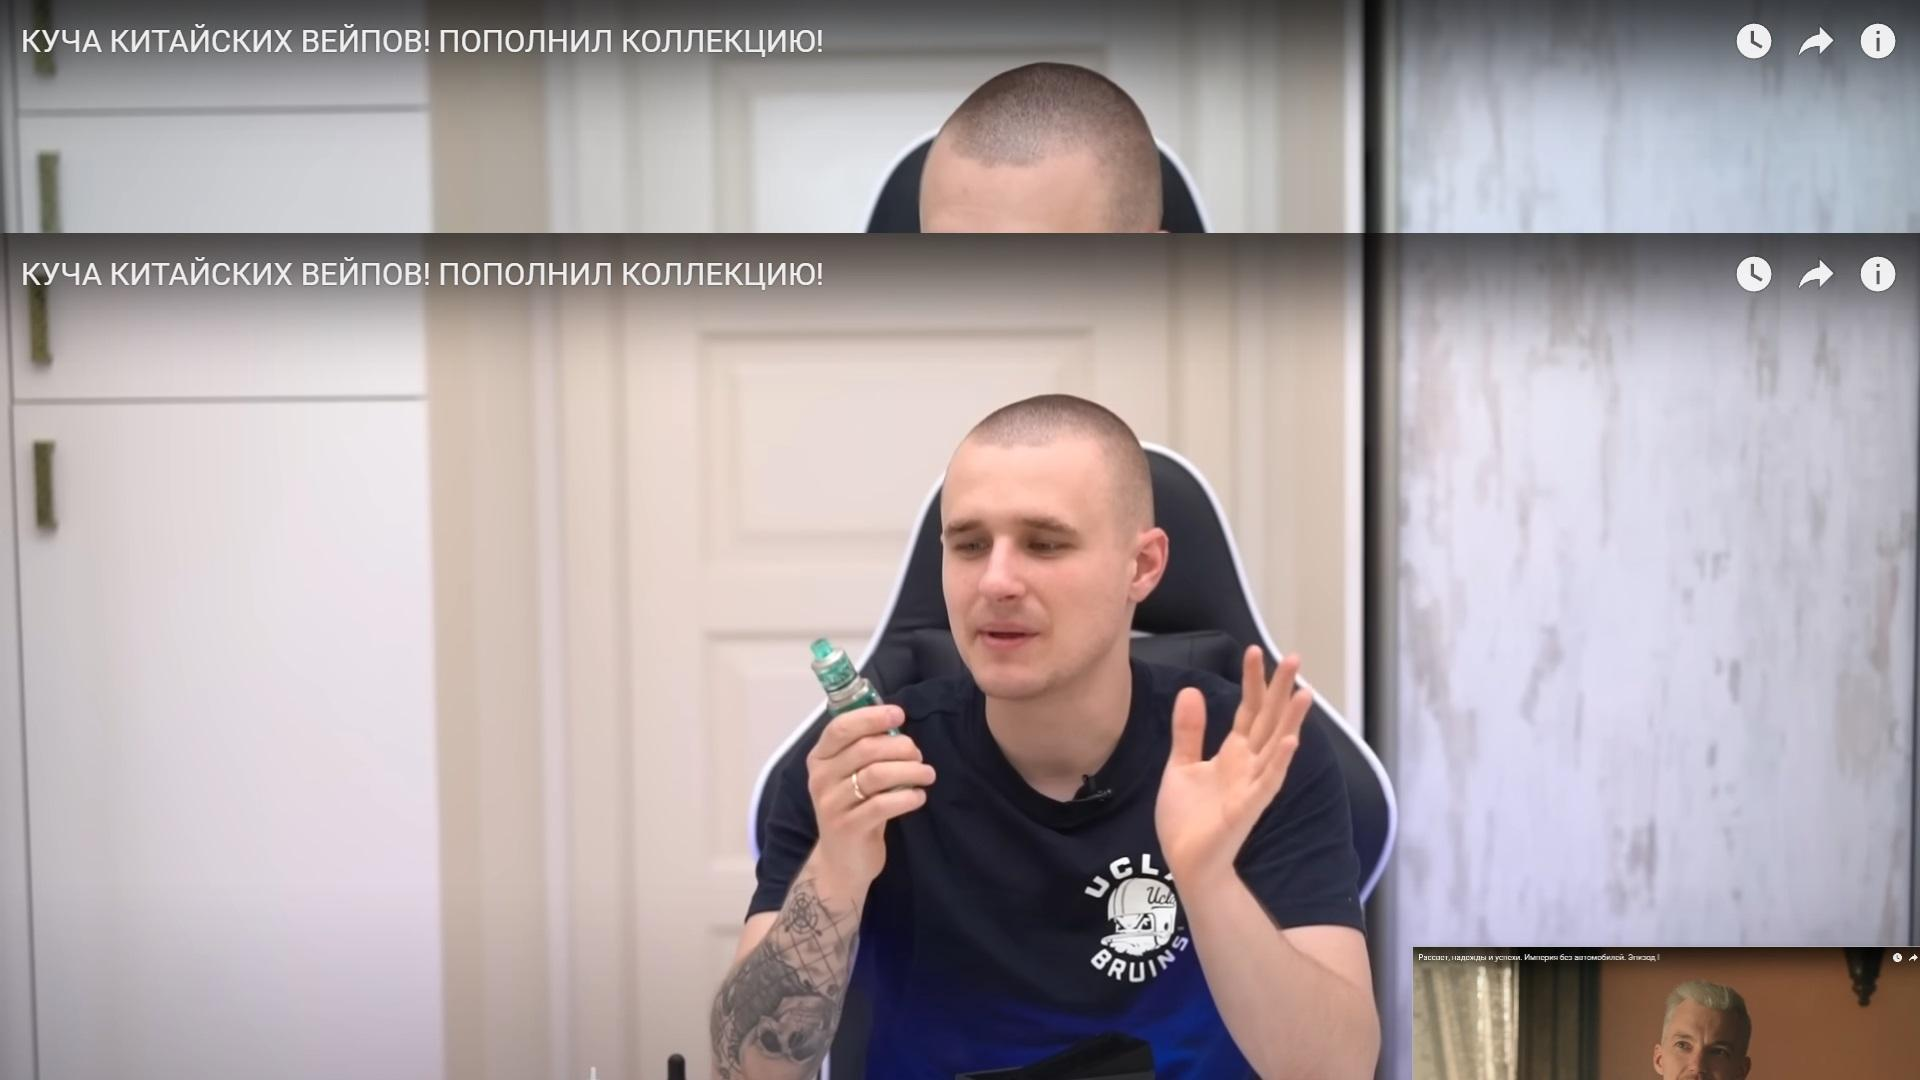Vape: (811, 638, 880, 715)
